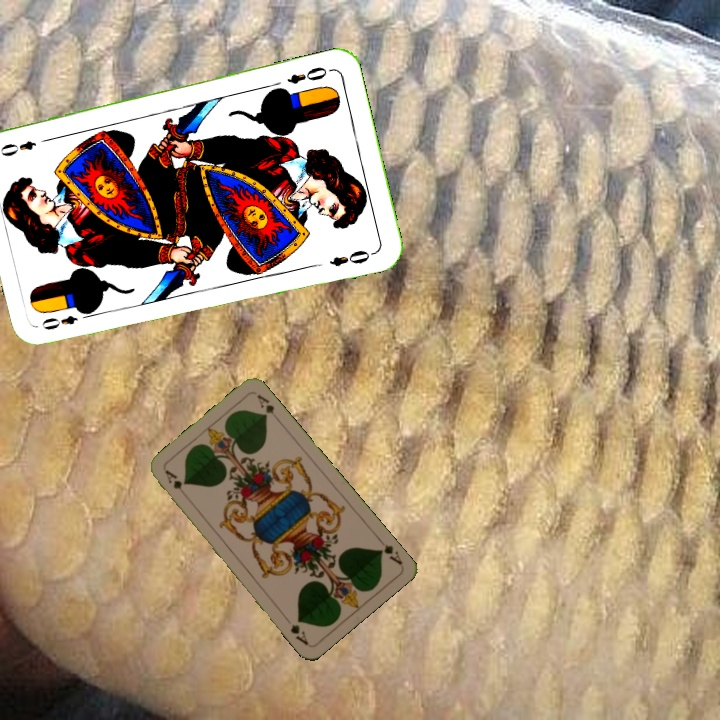EO: (37, 307, 95, 333), (283, 63, 335, 87)
GA: (161, 465, 191, 501), (374, 534, 405, 568)
